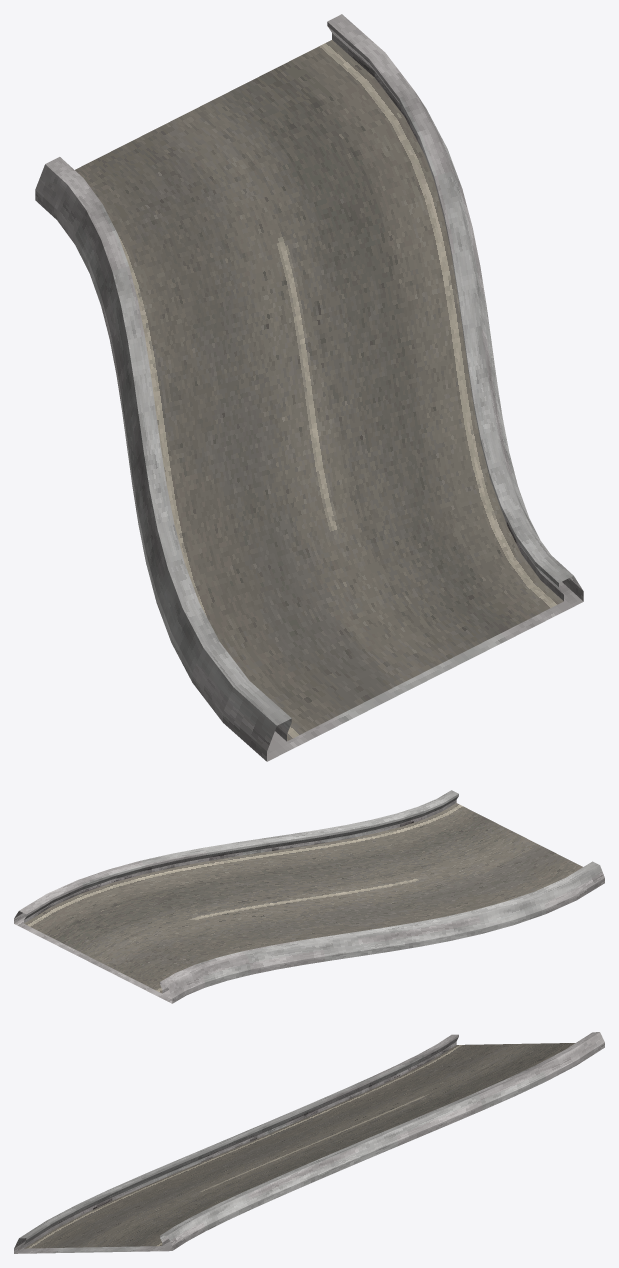
Rendered from chicane-right1x3.glb.
3 views of the same model, one above another, from view 1: azimuth 30°, elevation 25°; view 2: azimuth 150°, elevation 25°; view 3: azimuth 330°, elevation 25° (orthographic). The views are drawn at different scales.
Visible parts, largest first — view 1: road-Chicane-HalfBankedLeft-HalfBankedLeft-Up1-Right1-Size3; view 2: road-Chicane-HalfBankedLeft-HalfBankedLeft-Up1-Right1-Size3; view 3: road-Chicane-HalfBankedLeft-HalfBankedLeft-Up1-Right1-Size3.
Boxes of the visible parts, x1,y1,x2,y2 form: road-Chicane-HalfBankedLeft-HalfBankedLeft-Up1-Right1-Size3: (35, 14, 583, 761); road-Chicane-HalfBankedLeft-HalfBankedLeft-Up1-Right1-Size3: (14, 790, 604, 1003); road-Chicane-HalfBankedLeft-HalfBankedLeft-Up1-Right1-Size3: (14, 1032, 604, 1253).
Bounding box in the file's own units: 2 × 0.5859 × 3.
Materials: 2 (2 with a texture image).
